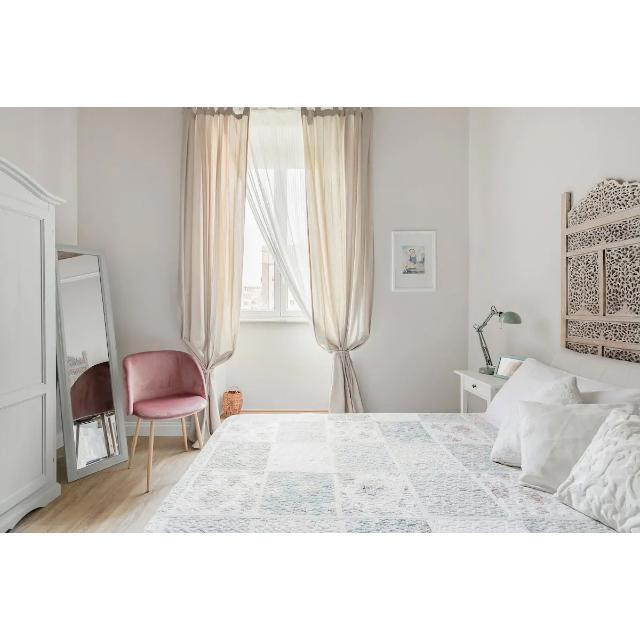pillow: (553, 406, 637, 533), (516, 403, 615, 492)
